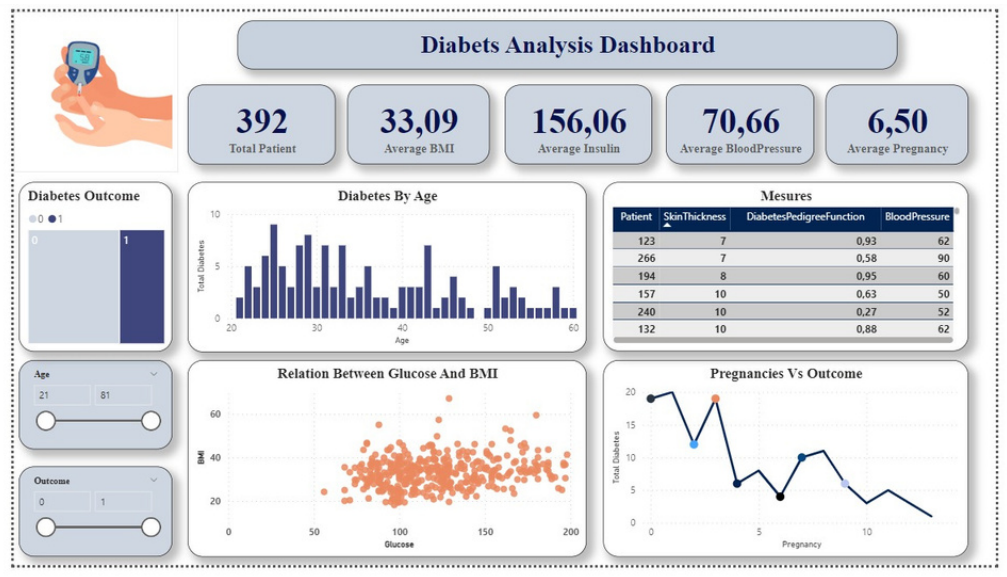

The page's visual inventory and layout, read from the dashboard file:
{"tool":"powerbi","page":{"name":"Dashboard","canvas":[1280,720],"ordinal":1},"visuals":[{"type":"textbox","box":[291.7,11.7,860,63.3],"z":0},{"type":"card","fields":{"Values":["CountNonNull(fact_table.Id_patient)"]},"box":[227.1,94.3,192.9,104.3],"z":1000},{"type":"card","fields":{"Values":["Avg(fact_table.BMI)"]},"box":[435,95,185,103.3],"z":2000},{"type":"card","fields":{"Values":["Avg(fact_table.Insulin)"]},"box":[640,95,191.7,103.3],"z":3000},{"type":"card","fields":{"Values":["Avg(mesures_dim.BloodPressure)"]},"box":[850,95,193.3,103.3],"z":4000},{"type":"card","fields":{"Values":["Avg(pregnancy_dim.nb_Pregnancy)"]},"box":[1058.6,94.3,185.7,104.3],"z":5000},{"type":"image","box":[0,0,214.8,208.9],"z":6000},{"type":"slicer","fields":{"Values":["patient_dim.Age"]},"box":[7.1,452.9,200,115.7],"z":7000},{"type":"slicer","fields":{"Values":["outcome_dim.Outcome"]},"box":[7.1,591.4,200,117.1],"z":8000},{"type":"treemap","title":"Diabetes Outcome","fields":{"Group":["outcome_dim.Outcome"],"Values":["CountNonNull(patient_dim.Id_patient)"]},"box":[7.3,222.1,200.2,220.6],"z":9000},{"type":"columnChart","title":"Diabetes  By Age","fields":{"Category":["patient_dim.Age"],"Y":["fact_table.NombreElementsAvecUn"]},"box":[227.1,221.4,520,221.4],"z":10000},{"type":"scatterChart","title":"Relation Between Glucose And BMI","fields":{"Y":["fact_table.BMI"],"X":["mesures_dim.Glucose"]},"box":[227.1,452.9,520,255.7],"z":11000},{"type":"lineChart","title":"Pregnancies Vs Outcome","fields":{"Category":["pregnancy_dim.nb_Pregnancy"],"Y":["fact_table.NombreElementsAvecUn"]},"box":[768.6,452.9,475.7,255.7],"z":12000},{"type":"tableEx","title":"Mesures","fields":{"Values":["fact_table.Id_patient","mesures_dim.SkinThickness","mesures_dim.DiabetesPedigreeFunction","mesures_dim.BloodPressure"]},"box":[768.6,221.4,475.7,220],"z":13000}]}

Visuals, with their boxes in screenshot pixels (x1, y1, x2, y2), scaled from the page's 1280x720 canvas onto the 1007x577 screenshot:
textbox: region(229, 9, 906, 60)
card - CountNonNull(fact_table.Id_patient): region(179, 76, 330, 159)
card - Avg(fact_table.BMI): region(342, 76, 488, 159)
card - Avg(fact_table.Insulin): region(504, 76, 654, 159)
card - Avg(mesures_dim.BloodPressure): region(669, 76, 821, 159)
card - Avg(pregnancy_dim.nb_Pregnancy): region(833, 76, 979, 159)
image: region(0, 0, 169, 167)
slicer - patient_dim.Age: region(6, 363, 163, 456)
slicer - outcome_dim.Outcome: region(6, 474, 163, 568)
"Diabetes Outcome" treemap: region(6, 178, 163, 355)
"Diabetes  By Age" columnChart: region(179, 177, 588, 355)
"Relation Between Glucose And BMI" scatterChart: region(179, 363, 588, 568)
"Pregnancies Vs Outcome" lineChart: region(605, 363, 979, 568)
"Mesures" tableEx: region(605, 177, 979, 354)
